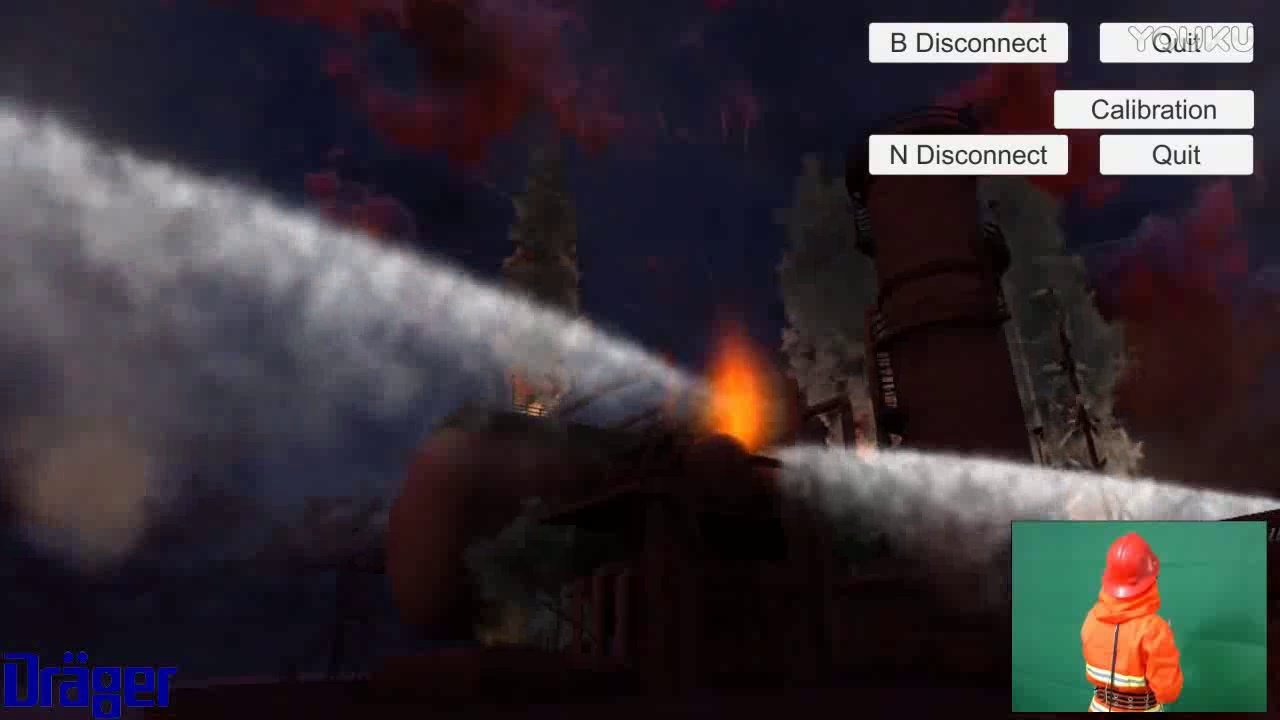fire: (708, 332, 766, 454)
